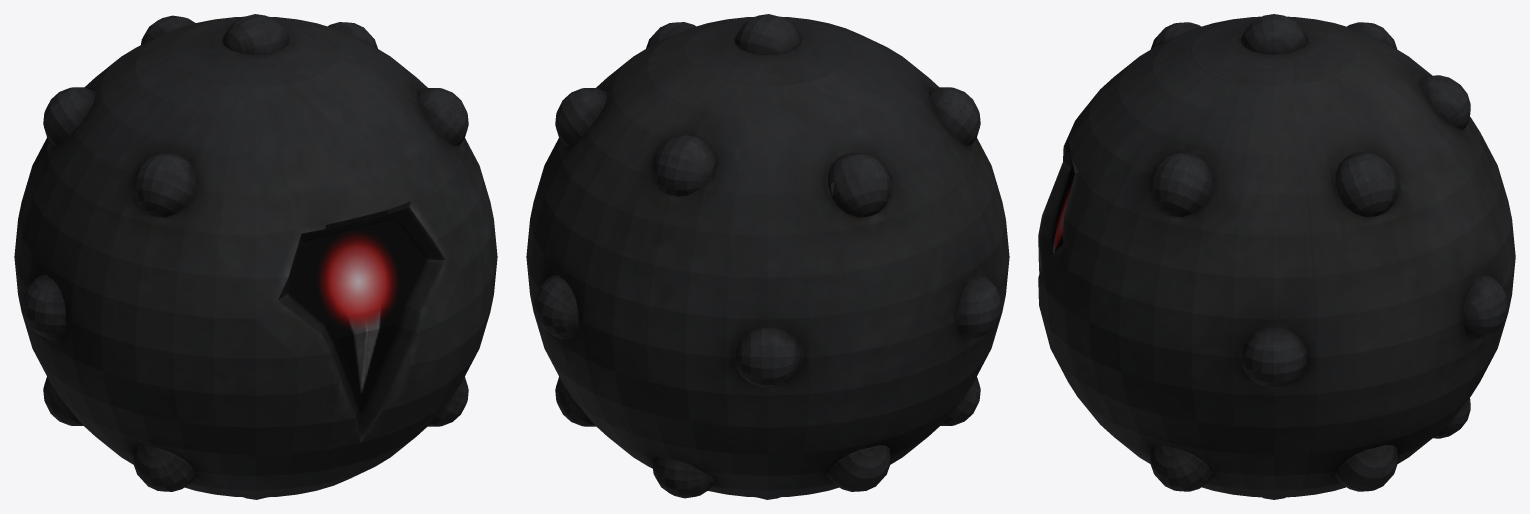
Rendered from cracker.obj.
3 views of the same model, side by side, from view 1: azimuth 30°, elevation 25°; view 2: azimuth 150°, elevation 25°; view 3: azimuth 270°, elevation 25° (orthographic).
Parts seen in each view (by area): view 1: Nade; view 2: Nade; view 3: Nade.
Part boxes in pixels (x1,y1,x2,y2): Nade: (14,14,497,499); Nade: (526,14,1009,499); Nade: (1038,14,1515,499).
Size of the model in its own units: 45.91 by 45.91 by 41.49.
